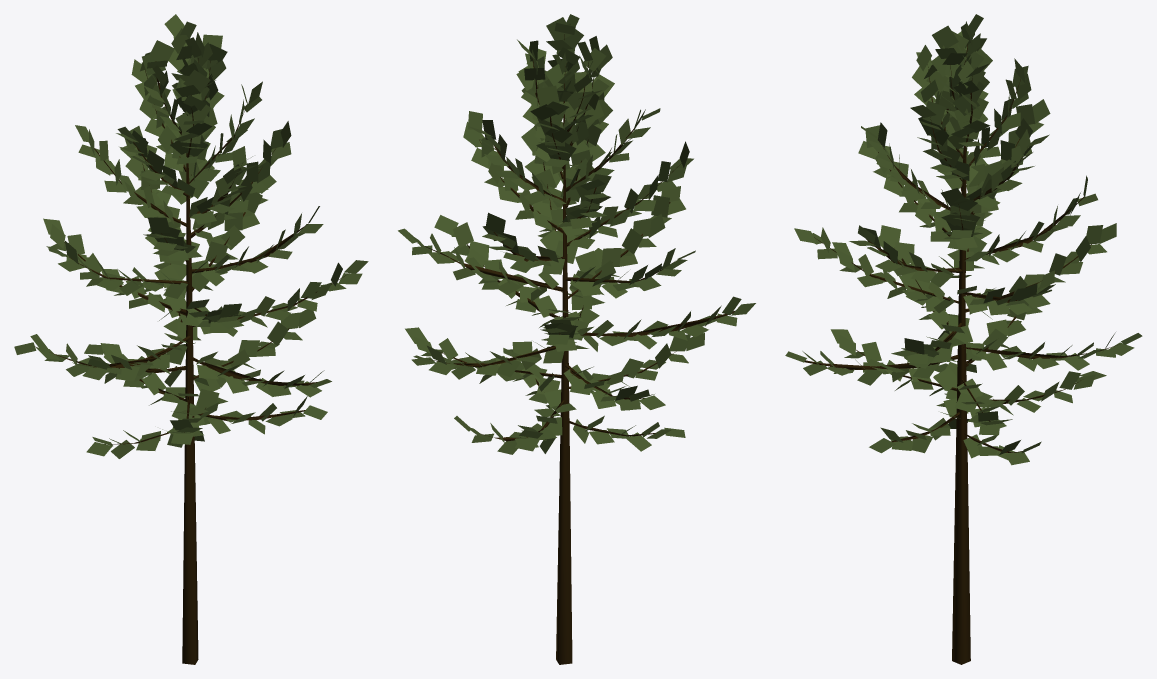
The model's file is tallTree.fbx.
The picture shows the model from 3 angles, left to right: view 1: azimuth 30°, elevation 25°; view 2: azimuth 150°, elevation 25°; view 3: azimuth 270°, elevation 25°; orthographic projection.
Parts seen in each view (by area): view 1: leaves, tree.001; view 2: leaves, tree.001; view 3: leaves, tree.001.
Boxes of the visible parts, x1,y1,x2,y2 form: leaves: [14, 14, 368, 458]; tree.001: [35, 58, 349, 664]; leaves: [398, 14, 755, 454]; tree.001: [417, 34, 734, 664]; leaves: [785, 14, 1142, 465]; tree.001: [804, 44, 1119, 664].
Bounding box in the file's own units: 871 × 1773 × 896.
